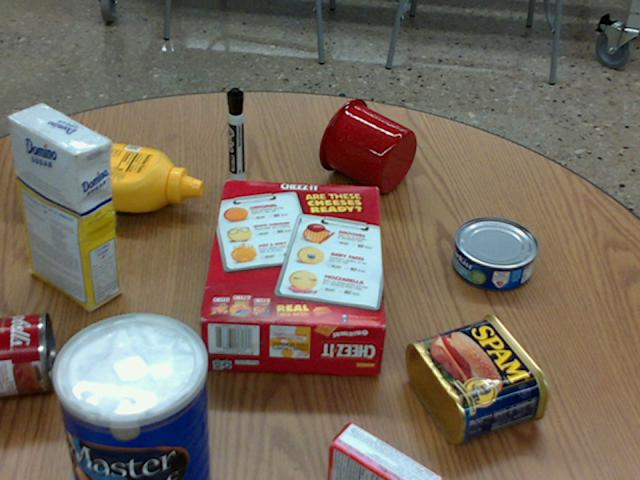cracker_box: (199, 182, 385, 373)
gelatin_box: (326, 421, 445, 479)
large_marker: (226, 88, 243, 185)
master_chef_can: (49, 312, 208, 479)
mug: (319, 98, 416, 192)
mustard_bottle: (16, 134, 201, 211)
potted_meat_can: (407, 313, 549, 444)
sugar_box: (8, 103, 117, 310)
tomato_soup_can: (0, 311, 54, 394)
tuna_fish_can: (452, 216, 538, 290)
